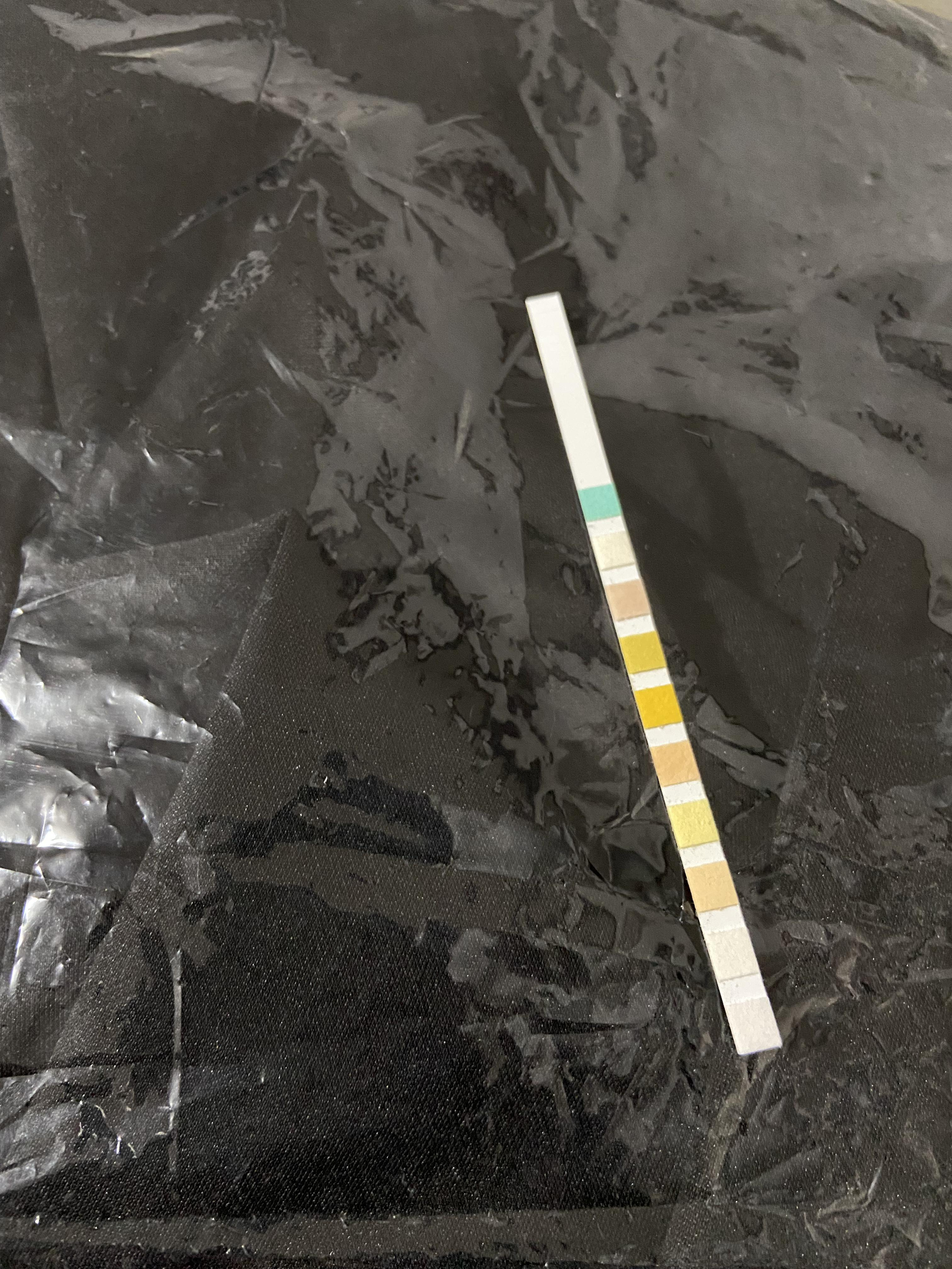Bilirubin: (599, 536, 628, 563)
Blood: (643, 691, 673, 723)
Glucose: (586, 490, 614, 517)
Ketone: (613, 586, 642, 613)
Leukocytes: (736, 1005, 770, 1046)
Nitrite: (716, 933, 748, 973)
Protein: (676, 805, 710, 842)
SpGravity: (627, 638, 658, 666)
Urobilinogen: (697, 868, 728, 907)
pH: (661, 746, 691, 781)
strip: (526, 292, 783, 1056)
